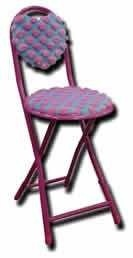obstacle: (10, 6, 122, 248)
